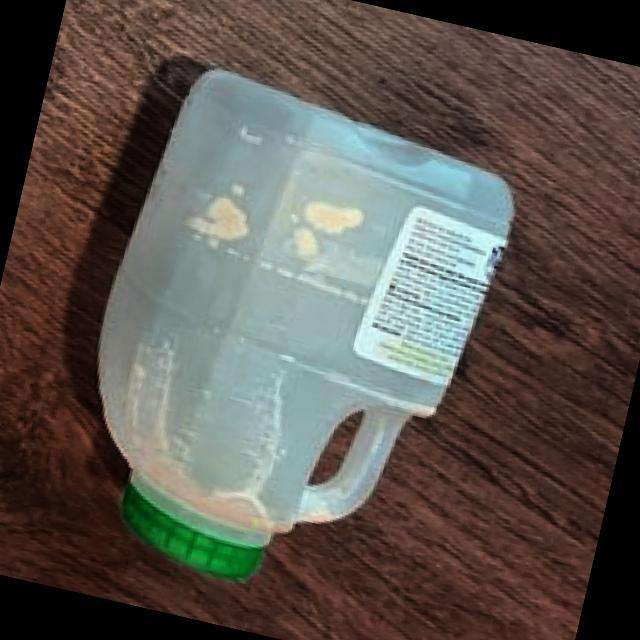HDPE Plastic: (92, 62, 522, 586)
